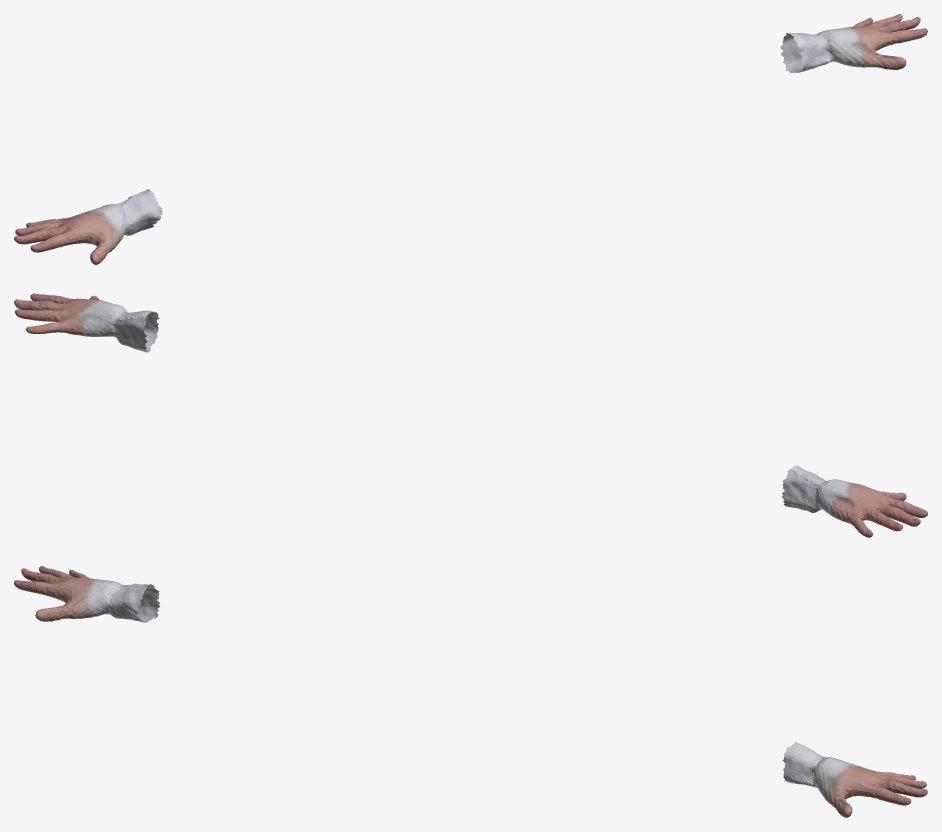
The model's file is animation_lowres.obj.
3 views of the same model, one above another, from view 1: azimuth 30°, elevation 25°; view 2: azimuth 150°, elevation 25°; view 3: azimuth 330°, elevation 25° (orthographic).
Bounding box in the file's own units: 1.69 × 0.0725 × 0.1701.
